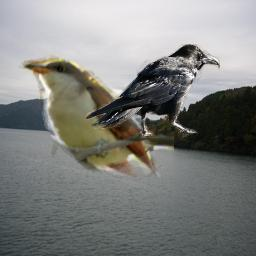Crow: (84, 43, 220, 142)
Cuckoo: (18, 48, 174, 177)
